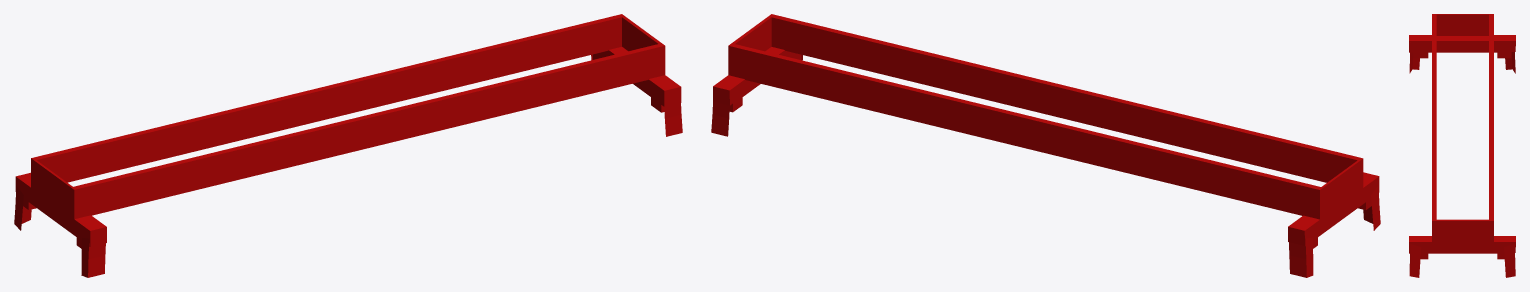
The model's file is ASCSpreader.FBX.
3 renders of one model, left to right at view 1: azimuth 30°, elevation 25°; view 2: azimuth 150°, elevation 25°; view 3: azimuth 270°, elevation 25°, orthographic. The views are drawn at different scales.
Parts seen in each view (by area): view 1: rmg_hoist; view 2: rmg_hoist; view 3: rmg_hoist.
Part boxes in pixels (x1,y1,x2,y2): rmg_hoist: (14,14,682,277); rmg_hoist: (711,14,1380,277); rmg_hoist: (1409,14,1515,277).
Bounding box in the file's own units: 1242 × 157 × 269.
